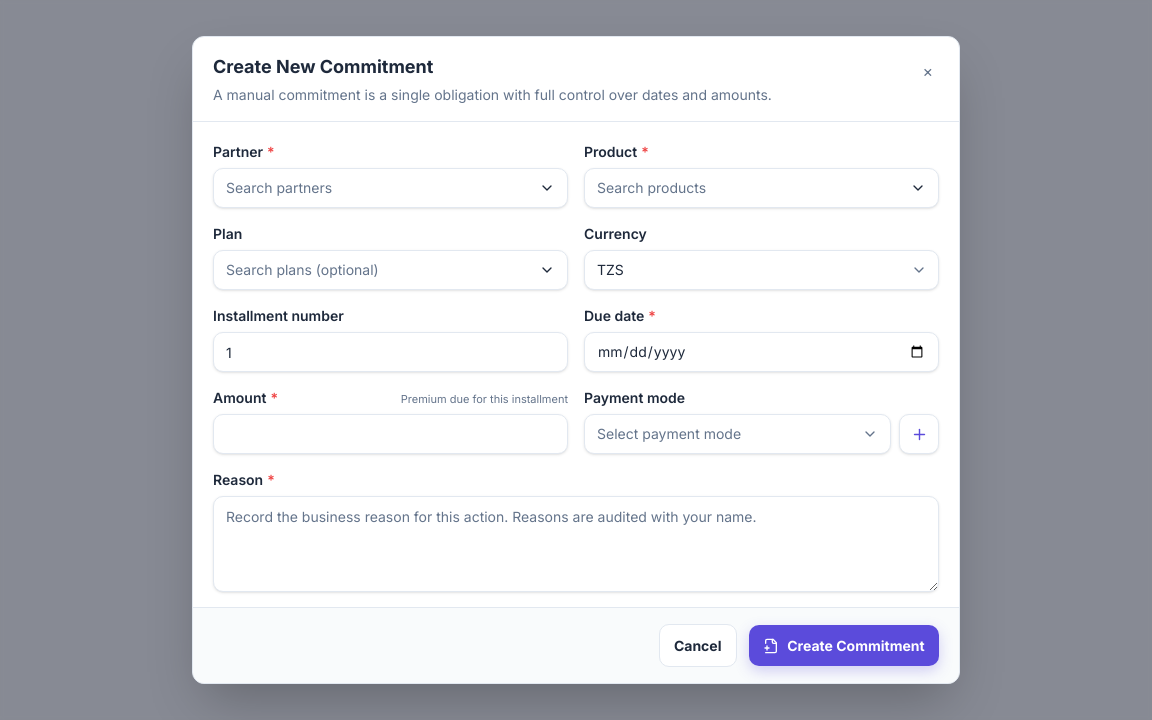
Scenario: ManualCommitmentModal › shows inline validation errors before anything is filled
What coordinates should you click on to do the following:
click the button with test id "manual-submit"
I would click on:
 (844, 646)
Its box is [749, 625, 939, 666].
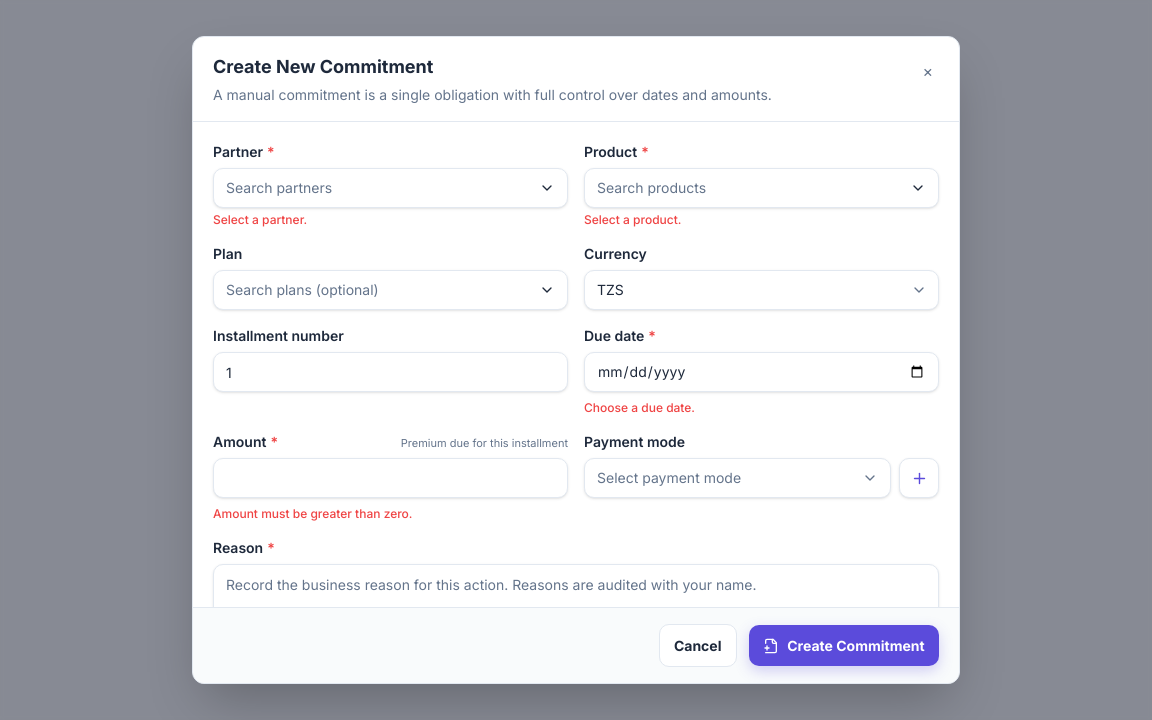
expect the text "Select a partner." is shown: met, box [213, 212, 307, 227]
expect the text "Select a product." is shown: met, box [584, 212, 682, 227]
expect the text "Choose a due date." is shown: met, box [584, 400, 695, 415]
